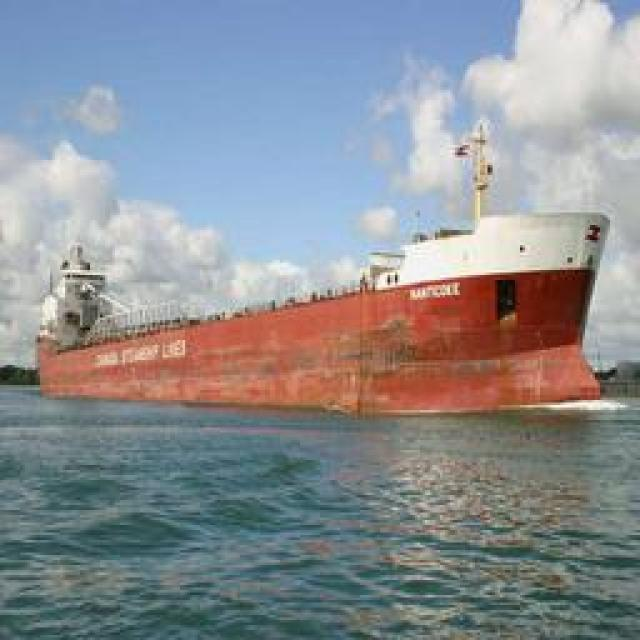CIV_Ship: (31, 198, 614, 418)
